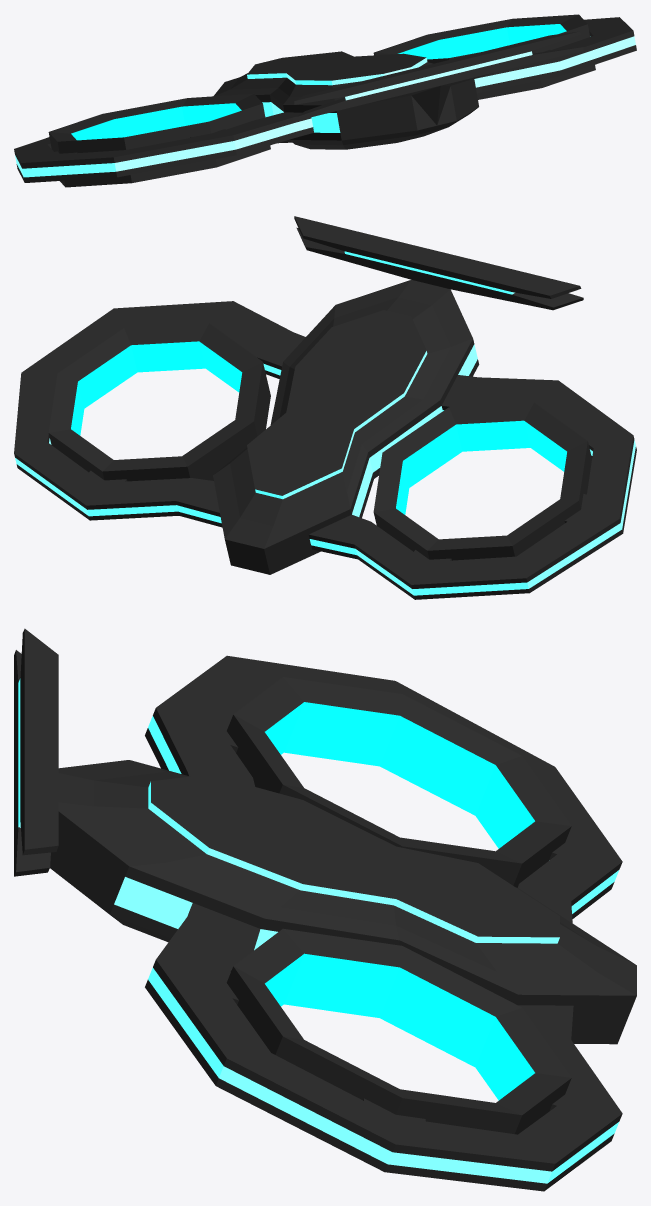
The model's file is drone.glb.
3 renders of one model, top to bottom at view 1: azimuth 30°, elevation 25°; view 2: azimuth 150°, elevation 25°; view 3: azimuth 270°, elevation 25°, orthographic. The views are drawn at different scales.
Visible parts, largest first — view 1: Object_5, Object_3, Object_6, Object_4; view 2: Object_5, Object_3, Object_4, Object_6; view 3: Object_5, Object_3, Object_4, Object_6.
Part boxes in pixels (<box>): Object_5: <box>14,17,636,182</box>; Object_3: <box>48,14,595,187</box>; Object_6: <box>15,36,635,177</box>; Object_4: <box>71,24,566,140</box>; Object_5: <box>14,216,636,599</box>; Object_3: <box>48,323,591,560</box>; Object_4: <box>71,341,566,514</box>; Object_6: <box>15,251,635,595</box>; Object_5: <box>14,628,636,1191</box>; Object_3: <box>226,677,571,1134</box>; Object_4: <box>265,702,534,1100</box>; Object_6: <box>18,678,618,1183</box>.
Bounding box in the file's own units: 1.81 × 0.5281 × 1.03.
